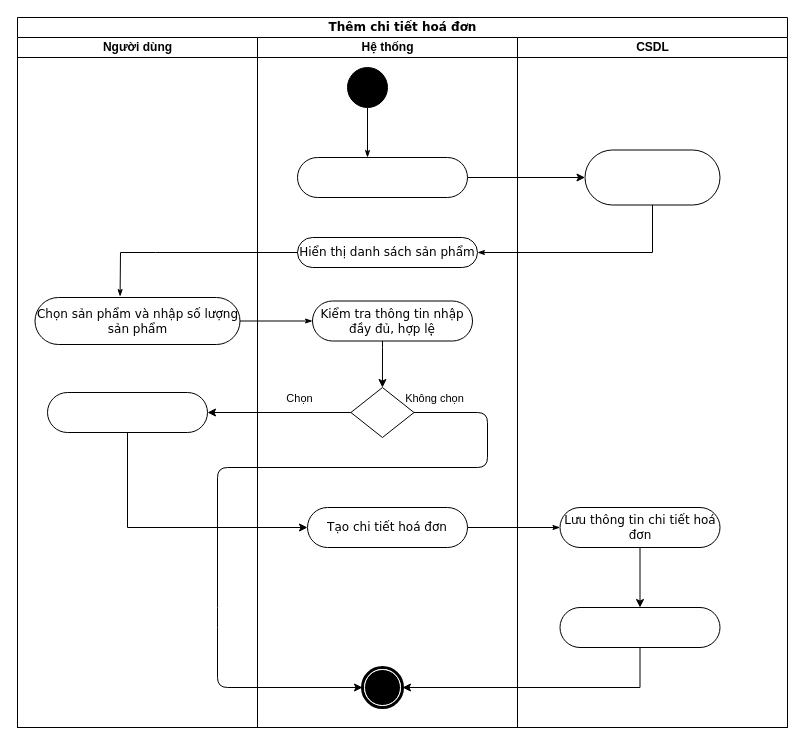
Image size: 805x745. Some labels were removed from this diagram. Each missing label, with the centre of its shape:
Chọn thêm chi tiết hoá đơn: point (127, 412)
Cập nhật số tiền trên hoá đơn: point (639, 627)
Lấy thông tin sản phẩm: point (382, 177)
Truy xuất danh sách sản phẩm: point (652, 177)
